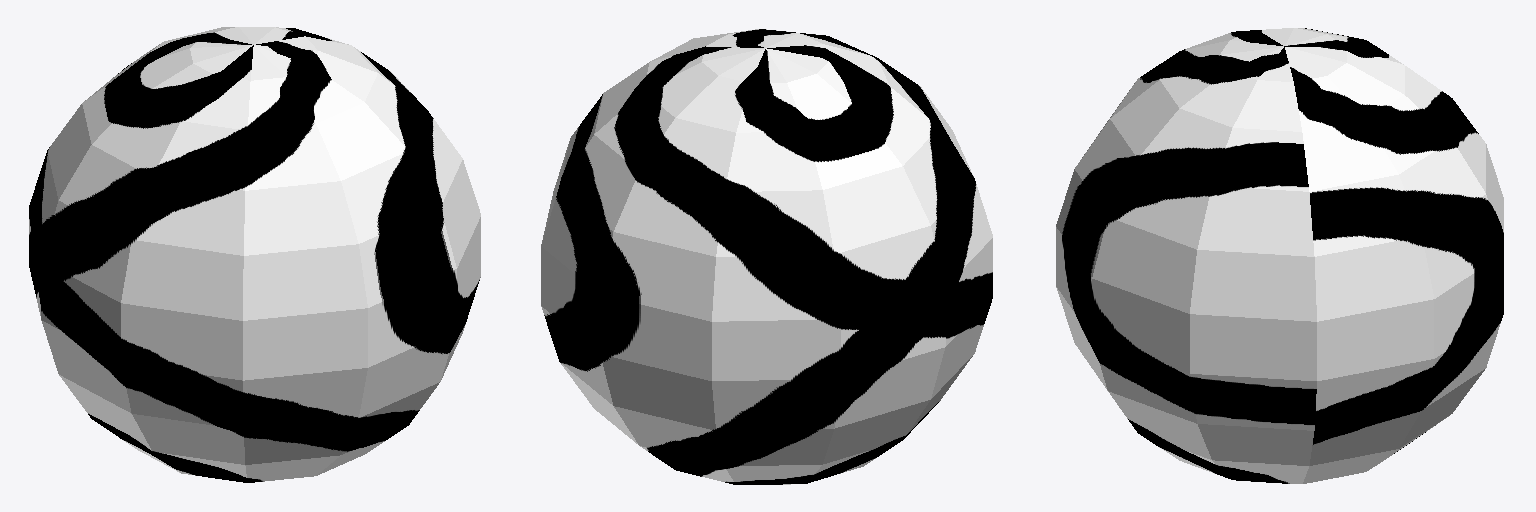
The picture shows the model from 3 angles: view 1: azimuth 30°, elevation 25°; view 2: azimuth 150°, elevation 25°; view 3: azimuth 270°, elevation 25°; orthographic projection.
Parts seen in each view (by area): view 1: 球; view 2: 球; view 3: 球.
Part boxes in pixels (x1,y1,x2,y2): 球: (29, 27, 480, 482); 球: (541, 29, 992, 484); 球: (1056, 28, 1503, 483).
Size of the model in its own units: 1.96 by 2 by 1.94.
Materials: 1 (1 with a texture image).